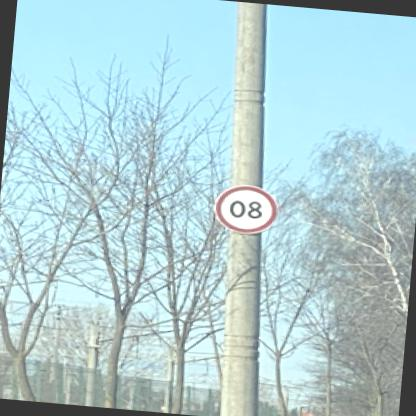speedlimit: (218, 182, 282, 235)
